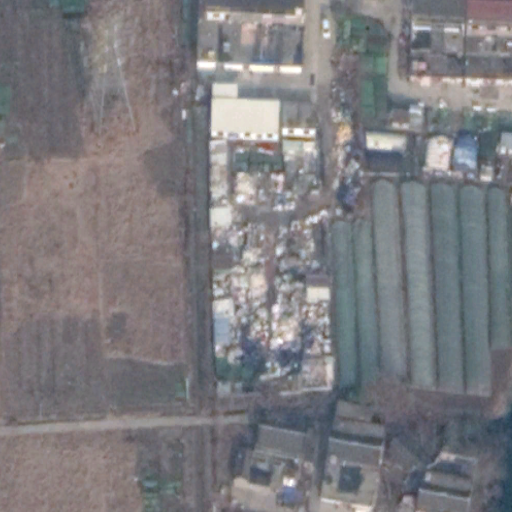msw: (211, 168, 330, 377), (333, 50, 365, 216)
